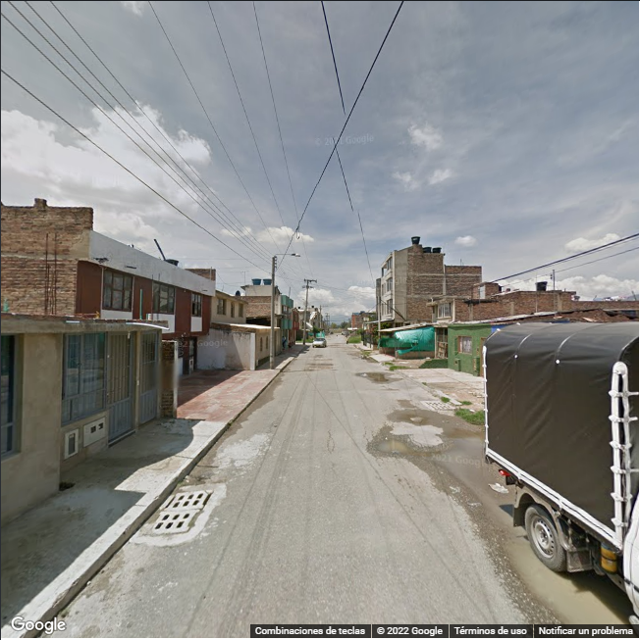D00: (327, 421, 336, 459)
D40: (369, 431, 417, 460)
